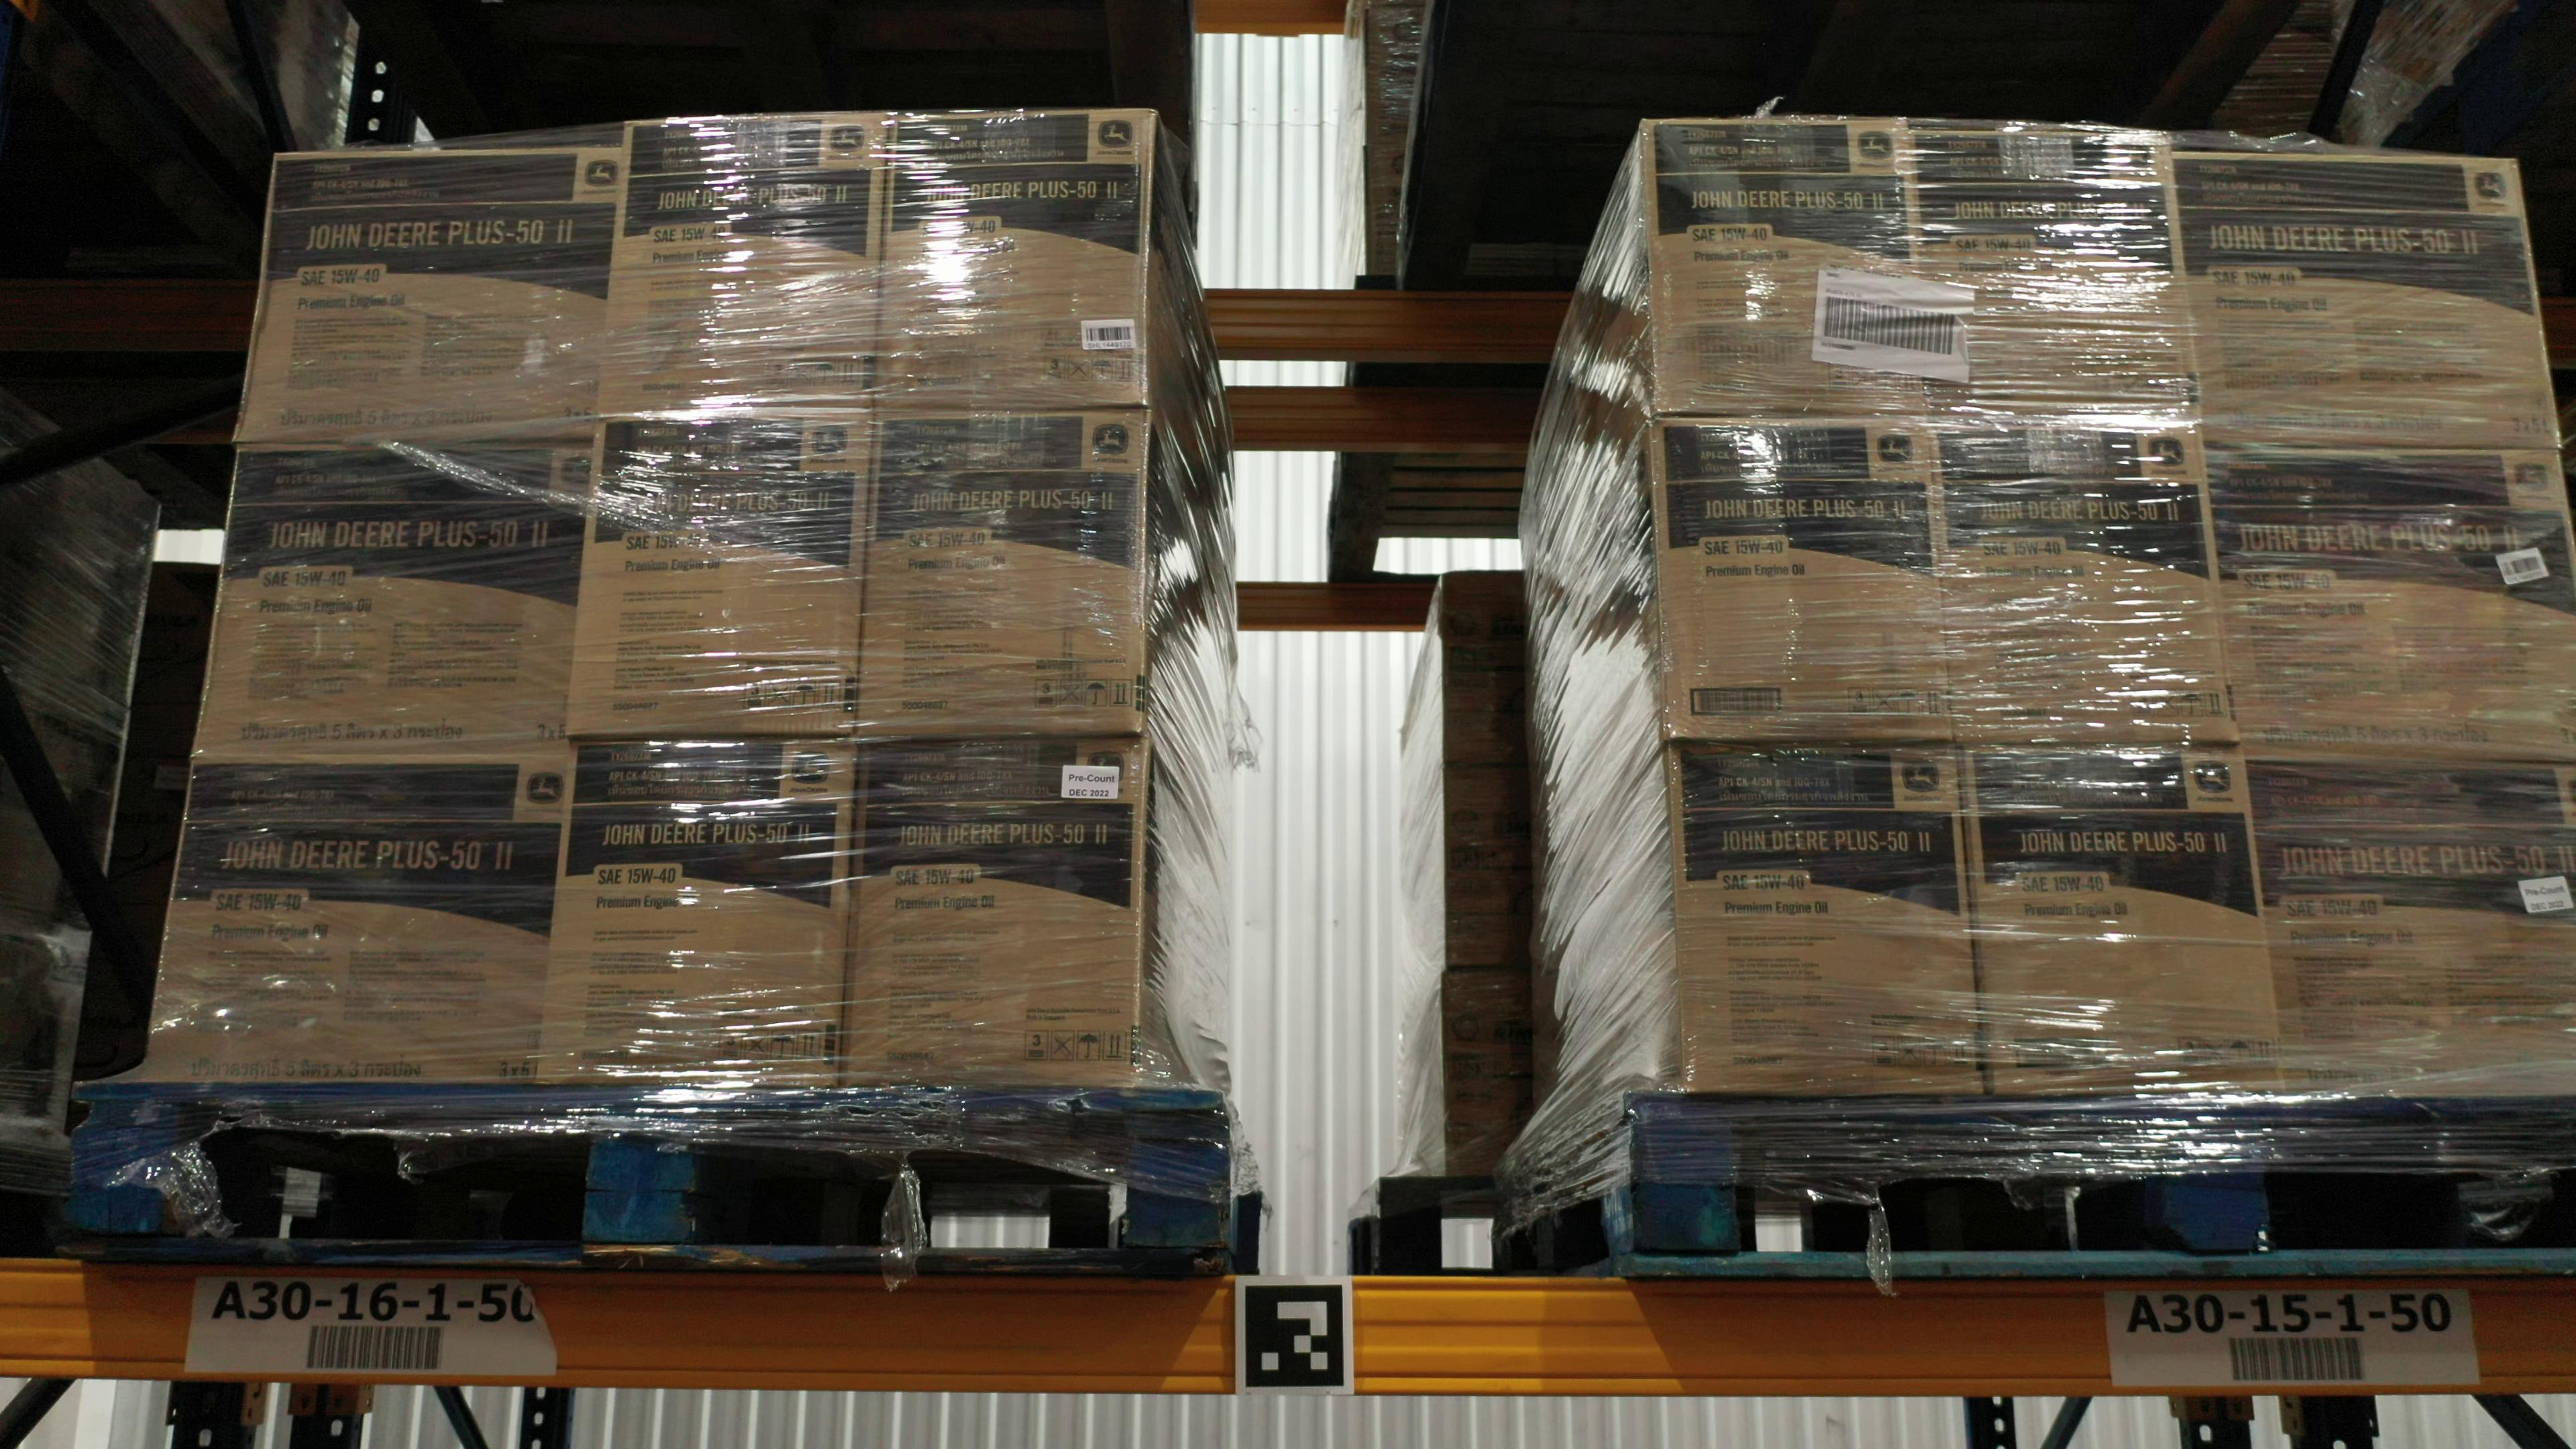-: (143, 761, 568, 1083), (193, 439, 593, 757), (2169, 150, 2565, 449), (2204, 446, 2576, 764), (1960, 745, 2288, 1102), (232, 145, 621, 442), (1667, 740, 1985, 1095), (534, 736, 856, 1086), (2252, 757, 2576, 1100), (842, 734, 1145, 1086), (568, 405, 879, 740), (1930, 412, 2238, 745), (1654, 416, 1957, 748), (856, 407, 1146, 747), (594, 113, 890, 416), (870, 108, 1159, 412), (1647, 117, 1930, 412), (1914, 126, 2197, 416)
box: (1442, 968, 1536, 1180), (1442, 768, 1539, 968), (1440, 570, 1532, 768)
